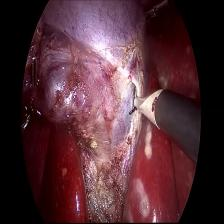Grasper: (140, 0, 170, 33)
Hook: (129, 80, 167, 130)
